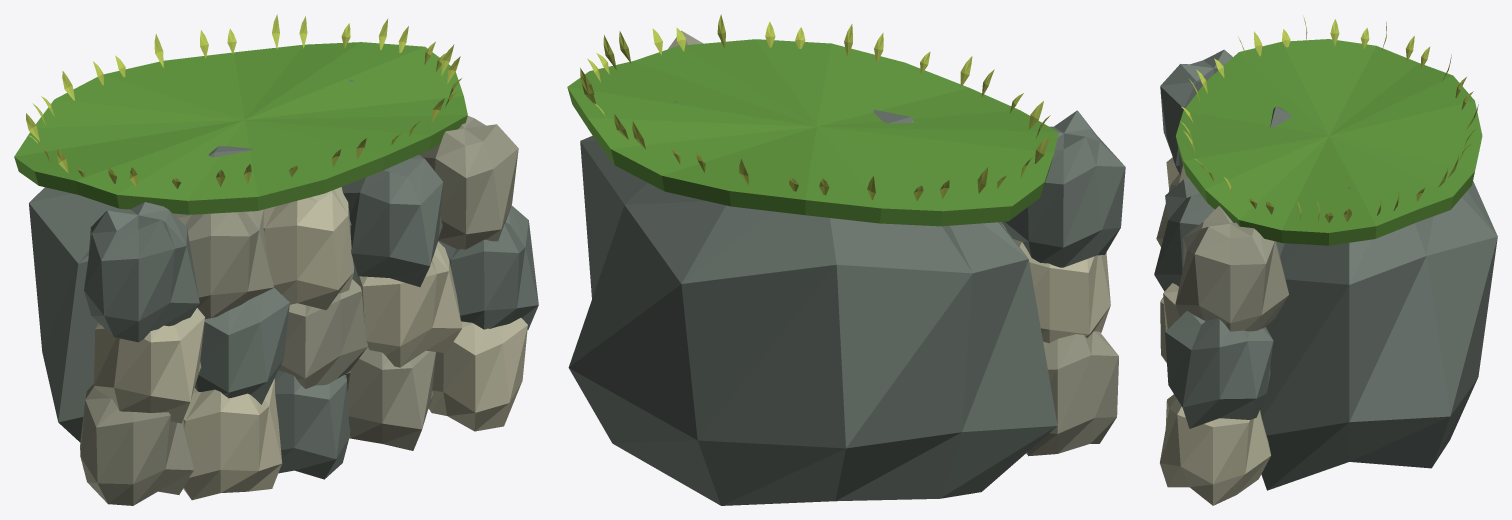
The model's file is CascadeBank.glb.
3 renders of one model, left to right at view 1: azimuth 30°, elevation 25°; view 2: azimuth 150°, elevation 25°; view 3: azimuth 270°, elevation 25°, orthographic. The views are drawn at different scales.
Parts seen in each view (by area): view 1: CascadeBank; view 2: CascadeBank; view 3: CascadeBank.
Boxes of the visible parts, box(x1,y1,x2,y2) form: CascadeBank: box(14, 14, 538, 505); CascadeBank: box(567, 14, 1125, 505); CascadeBank: box(1154, 17, 1497, 505).
Bounding box in the file's own units: 4.2 × 3.1 × 3.
